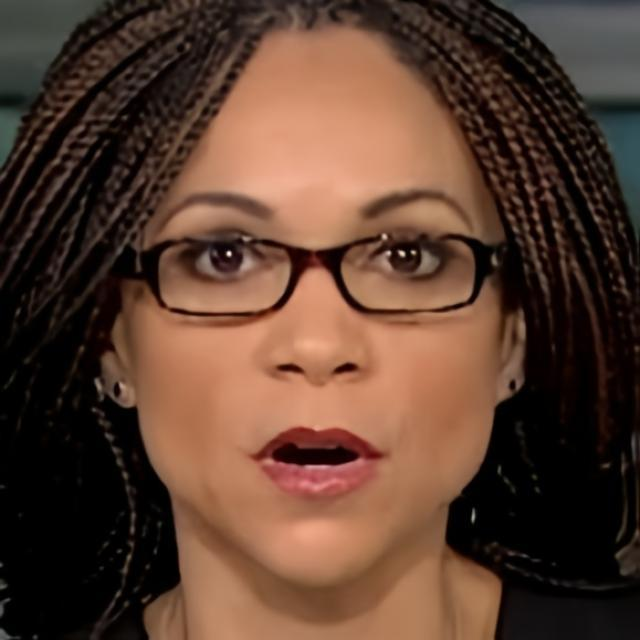surprise: (119, 24, 510, 591)
